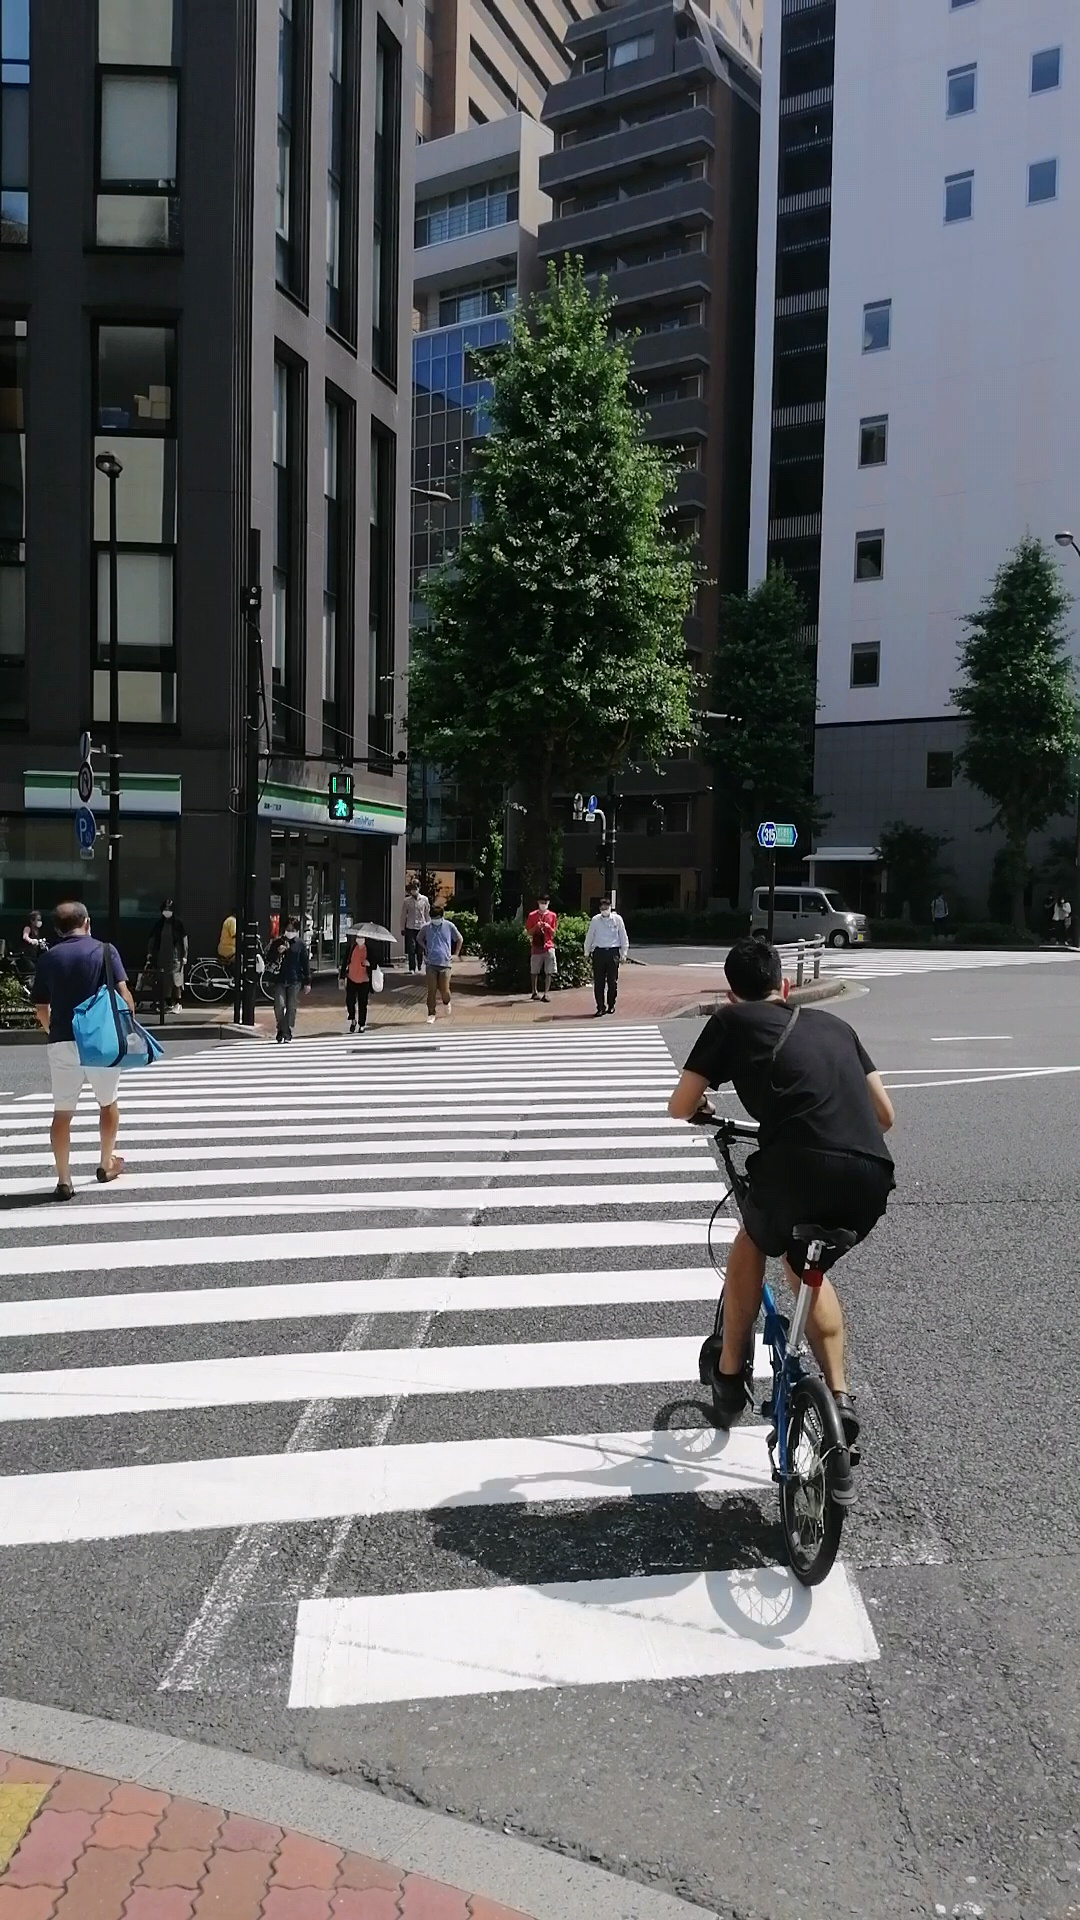green: (328, 770, 353, 820)
